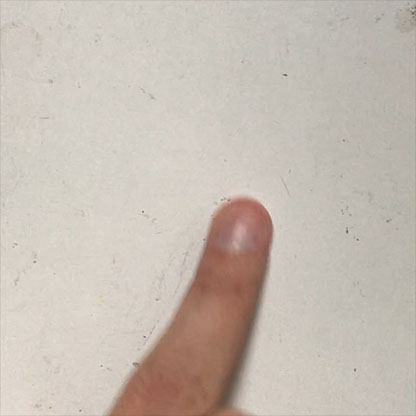fingertip: (203, 185, 281, 265)
